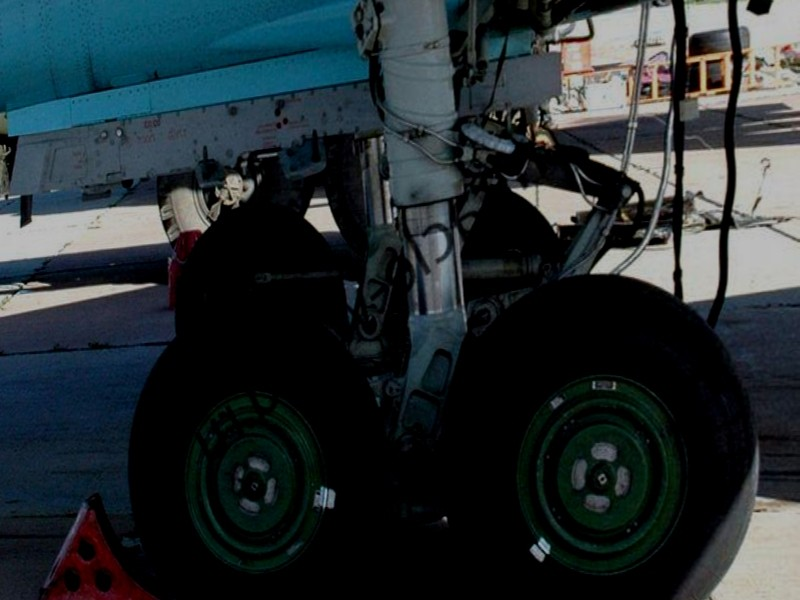chock: (24, 490, 180, 600)
wheel: (436, 260, 767, 600), (120, 290, 388, 600), (171, 196, 348, 337), (455, 178, 571, 301)
